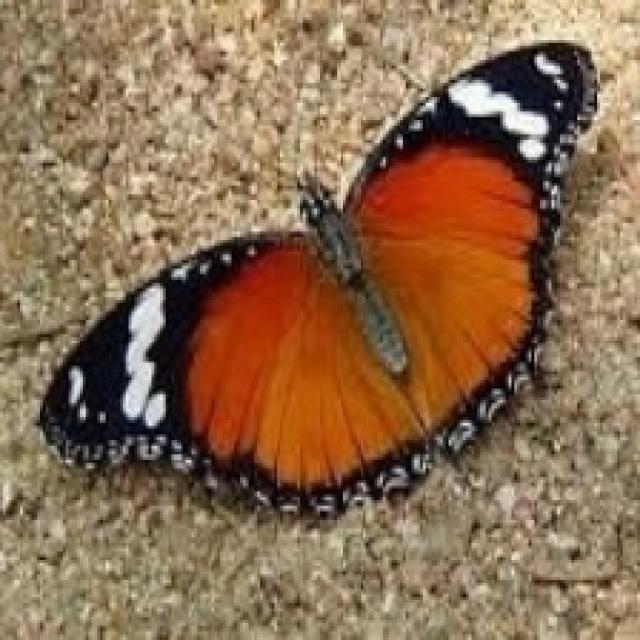butterfly: (31, 37, 600, 520)
